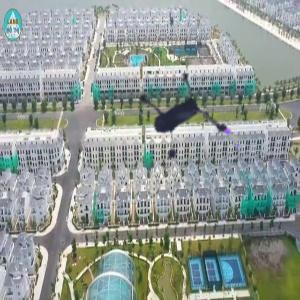drone: (115, 63, 247, 195)
